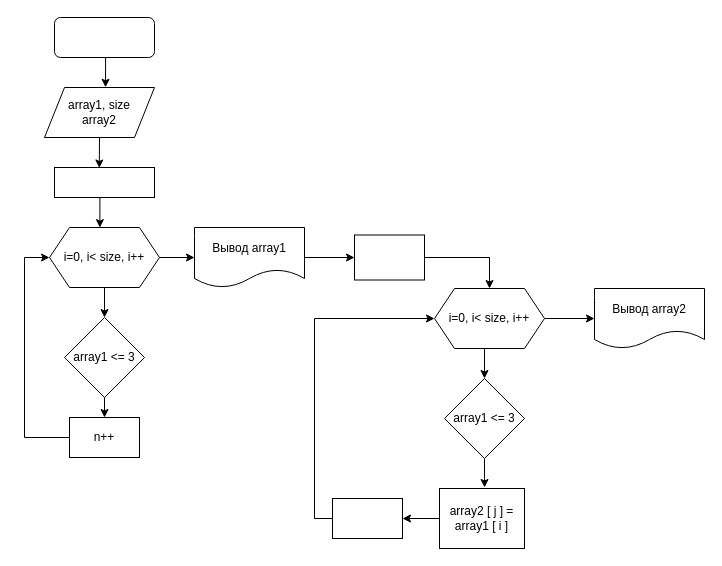
The diagram is 722 pixels wide and 566 high, and some of its shapes have lost their labels. Here are the shapes that lost their labels. From the top down, the box of each, then its label:
(54, 16, 154, 58): Старт
(54, 166, 154, 198): n = 0
(354, 234, 424, 280): j = 0
(332, 498, 402, 538): j++
